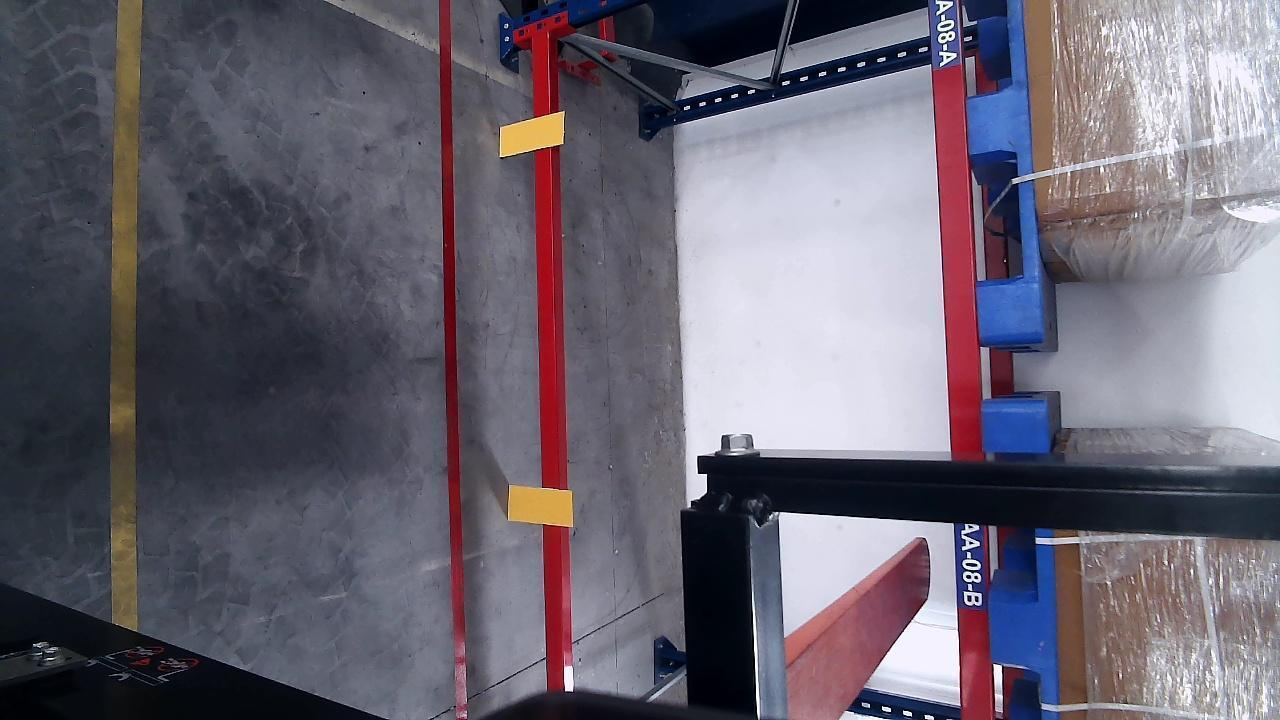red_line: (437, 1, 470, 720)
yellow_line: (111, 1, 147, 628)
